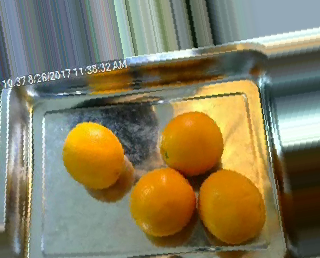Orange: (196, 169, 265, 245), (129, 168, 195, 236), (158, 110, 223, 176), (61, 121, 124, 189)
